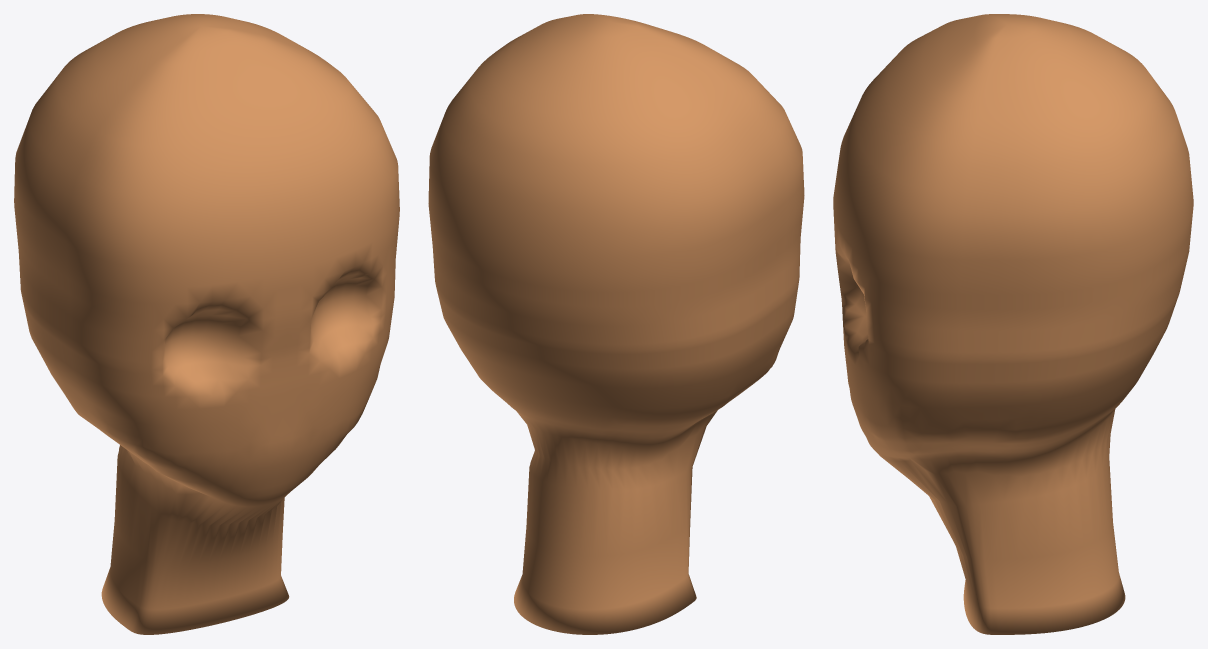
Rendered from base-feminina-01.glb.
3 views of the same model, side by side, from view 1: azimuth 30°, elevation 25°; view 2: azimuth 150°, elevation 25°; view 3: azimuth 270°, elevation 25° (orthographic). The views are drawn at different scales.
Parts seen in each view (by area): view 1: Base_Feminina_01_R02; view 2: Base_Feminina_01_R02; view 3: Base_Feminina_01_R02.
Boxes of the visible parts, x1,y1,x2,y2 form: Base_Feminina_01_R02: (14,14,399,634); Base_Feminina_01_R02: (428,14,804,634); Base_Feminina_01_R02: (833,14,1193,634).
Bounding box in the file's own units: 0.174 × 0.305 × 0.174.
